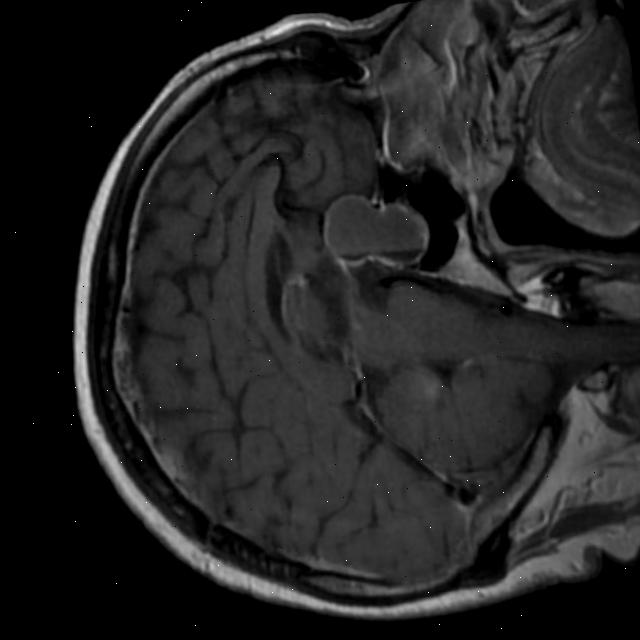Pituitary: (318, 187, 433, 269)
